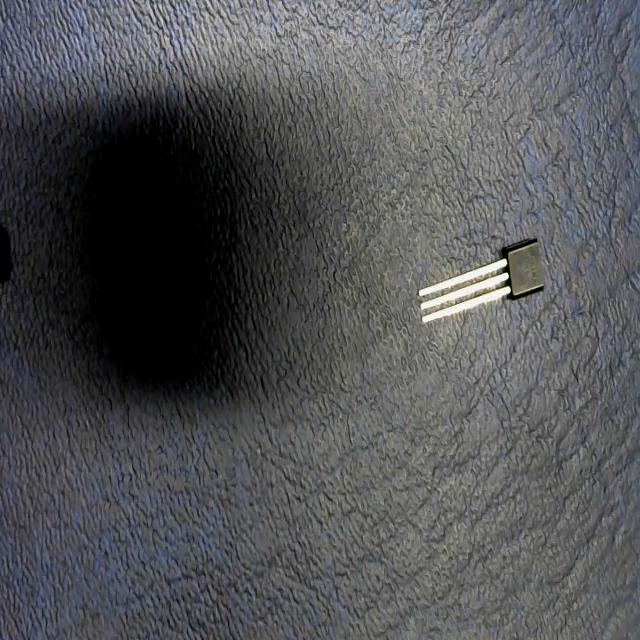BJT: (419, 239, 543, 326)
